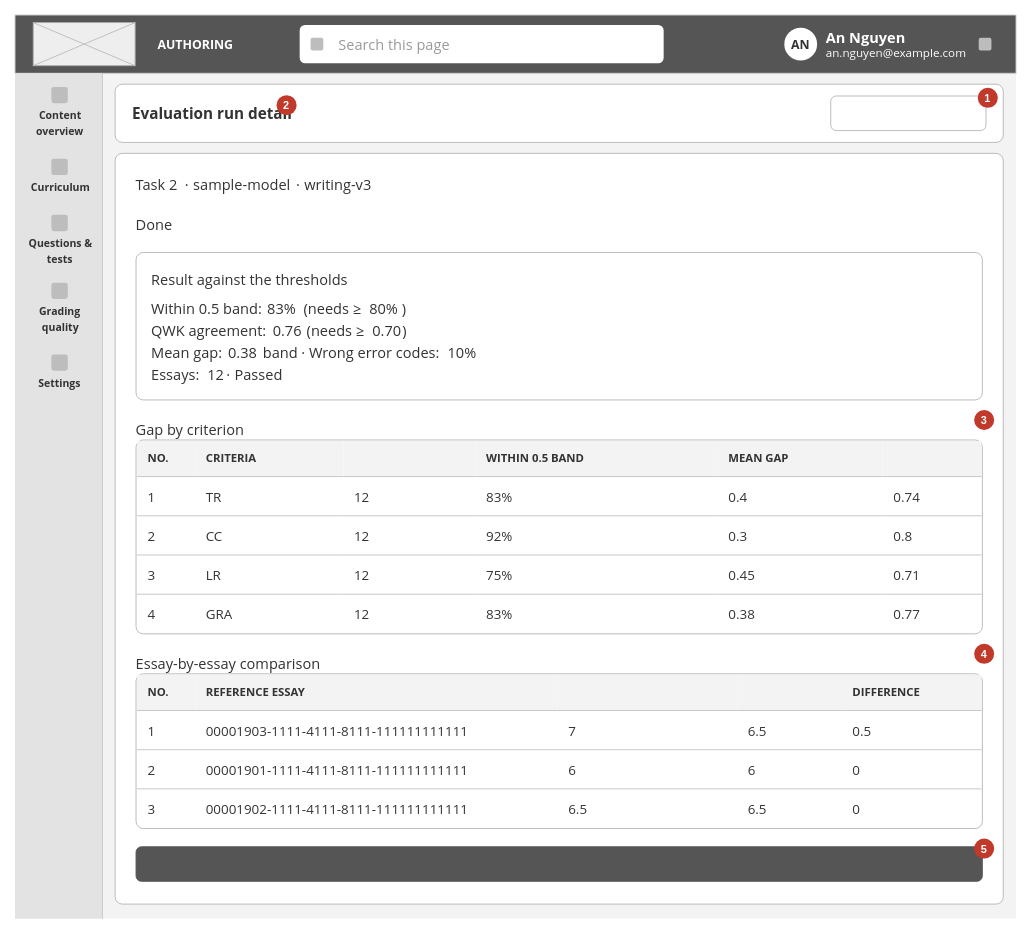
This 1031x934 diagram has some shape labels left out. The shapes that lost their labels are listed below. From the top down, each one's centre as x and y in pixels, then its label:
At point (908, 113): "List of evaluations".
At point (409, 458): "ESSAYS".
At point (931, 458): "QWK".
At point (647, 692): "EXAMINER BAND".
At point (789, 692): "BAND AI".
At point (558, 863): "Activate this version".
